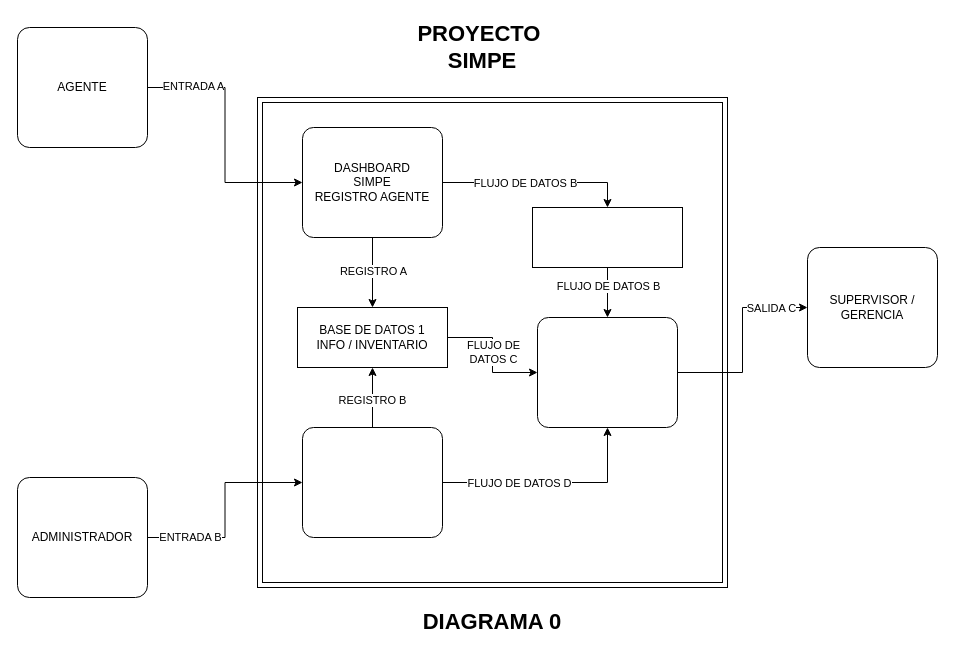
The diagram is 955 pixels wide and 664 high, and some of its shapes have lost their labels. The centre of each missing label's shape, as x and y in pixels:
"2. PROCESO DE REGISTRO USUARIOS" belongs at (372,482).
"3. PROCESO DE INFORMES" belongs at (607,372).
"BASE DE DATOS 2 METRICAS / EVENTOS" belongs at (607,237).
